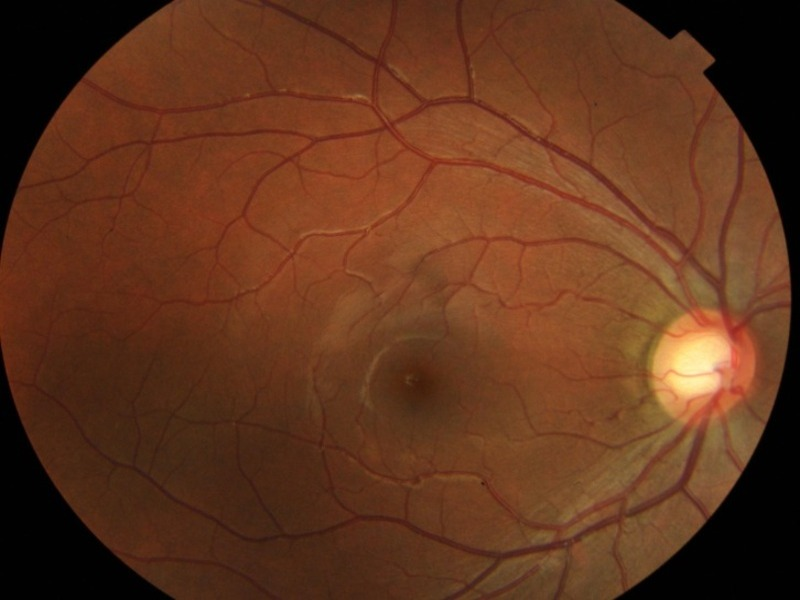Optic Cup: (673, 334, 730, 403)
Optic Disc: (644, 306, 754, 421)
